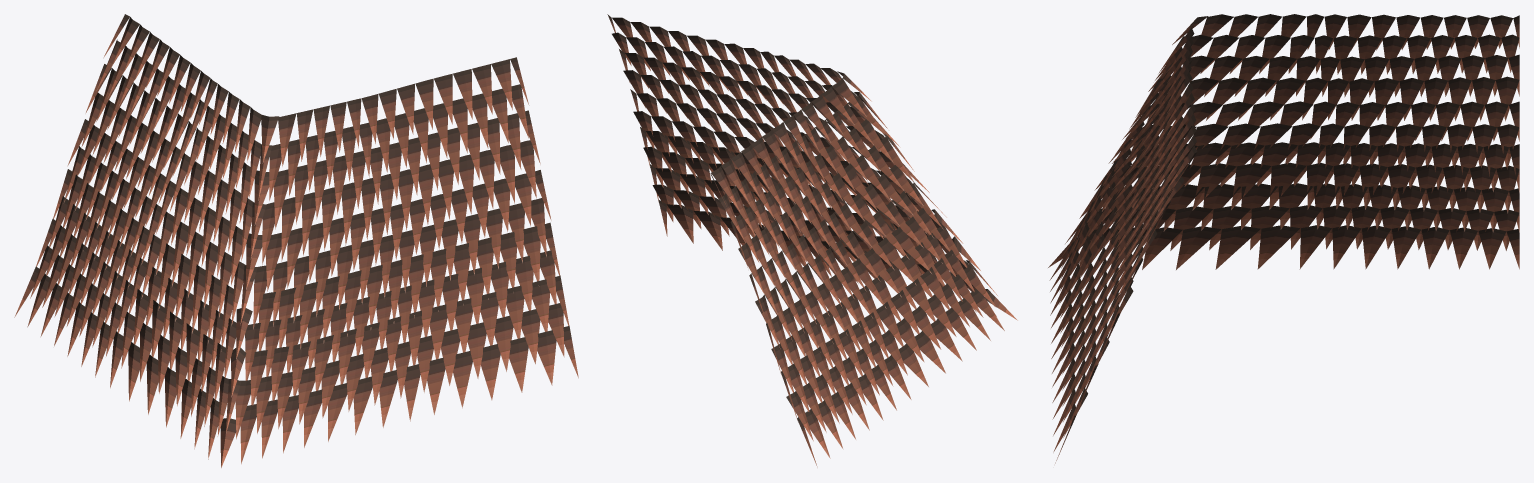
The model's file is Corner_Roof_LOD0.fbx.
The picture shows the model from 3 angles, left to right: view 1: azimuth 30°, elevation 25°; view 2: azimuth 150°, elevation 25°; view 3: azimuth 270°, elevation 25°; orthographic projection. The views are drawn at different scales.
Visible parts, largest first — view 1: polySurface5226; view 2: polySurface5226; view 3: polySurface5226.
Part boxes in pixels (bbox=[...]): polySurface5226: bbox=[14, 14, 578, 468]; polySurface5226: bbox=[607, 14, 1017, 467]; polySurface5226: bbox=[1048, 14, 1519, 463].
Size of the model in its own units: 451 by 332 by 448.
